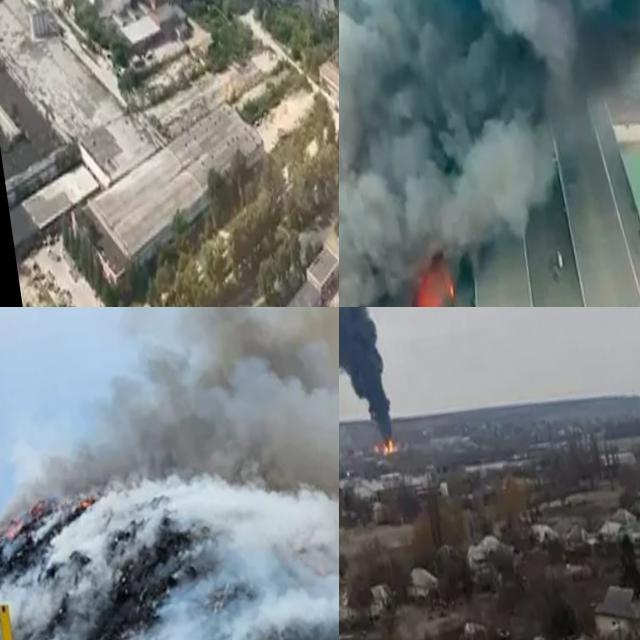smoke: (0, 307, 339, 640), (339, 0, 640, 307)
